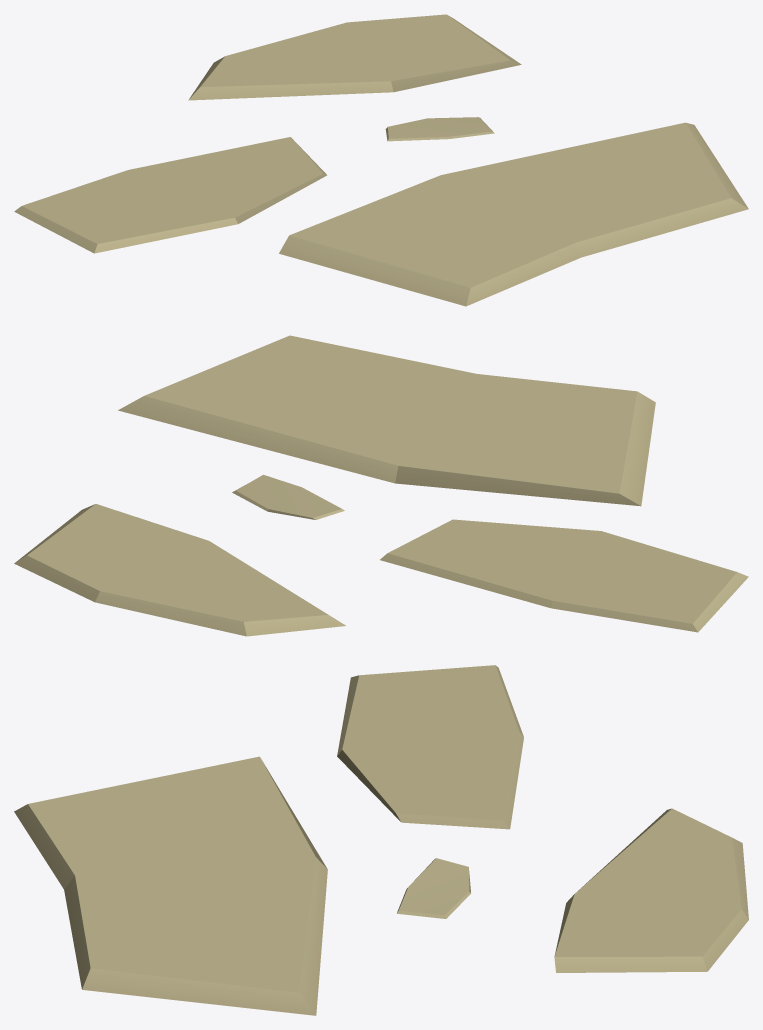
File: Rock_Small_2.fbx
The picture shows the model from 3 angles, top to bottom: view 1: azimuth 30°, elevation 25°; view 2: azimuth 150°, elevation 25°; view 3: azimuth 270°, elevation 25°; orthographic projection. The views are drawn at different scales.
Parts seen in each view (by area): view 1: rocks_small_2; view 2: rocks_small_2; view 3: rocks_small_2.
Boxes of the visible parts, x1,y1,x2,y2 form: rocks_small_2: (14, 14, 748, 306); rocks_small_2: (14, 335, 748, 636); rocks_small_2: (14, 665, 748, 1015).
Size of the model in its own units: 286 by 5.39 by 258.
Materials: 1 (1 with a texture image).
